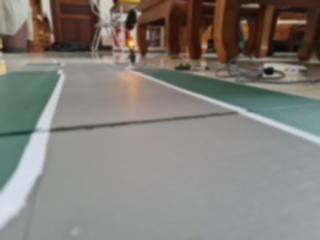yellow: (124, 33, 141, 56)
